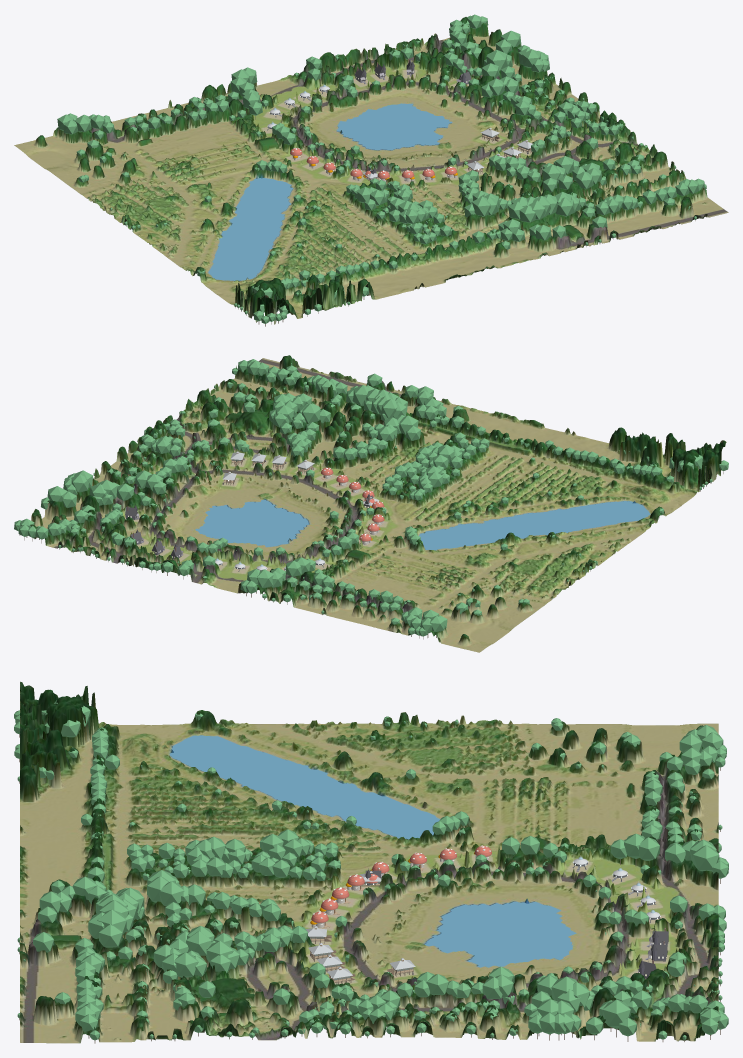
Rendered from florida_freedom_world_lakes.glb.
3 renders of one model, top to bottom at view 1: azimuth 30°, elevation 25°; view 2: azimuth 150°, elevation 25°; view 3: azimuth 270°, elevation 25°, orthographic. The views are drawn at different scales.
Visible parts, largest first — view 1: Terrain_cleared, Lake, Lake.001; view 2: Terrain_cleared, Lake, Lake.001; view 3: Terrain_cleared, Lake, Lake.001, Crown_562.
Boxes of the visible parts, bbox=[...] form: Terrain_cleared: bbox=[14, 17, 728, 324]; Lake: bbox=[208, 178, 292, 280]; Lake.001: bbox=[337, 103, 452, 150]; Terrain_cleared: bbox=[16, 355, 726, 652]; Lake: bbox=[419, 501, 650, 550]; Lake.001: bbox=[195, 500, 308, 547]; Terrain_cleared: bbox=[20, 681, 718, 1043]; Lake: bbox=[169, 735, 439, 839]; Lake.001: bbox=[424, 901, 576, 967]; Crown_562: bbox=[602, 999, 630, 1028].
Size of the model in its own units: 406 by 26.17 by 373.
57 materials, 1 textured.
